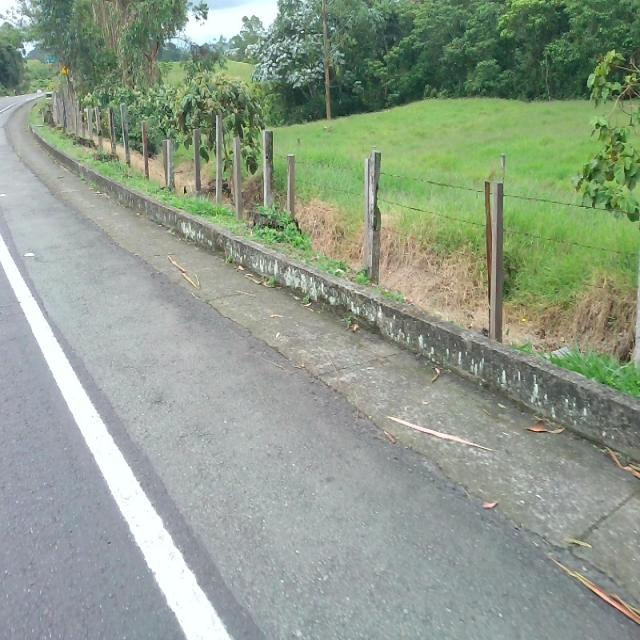DITCH: (2, 88, 638, 637)
